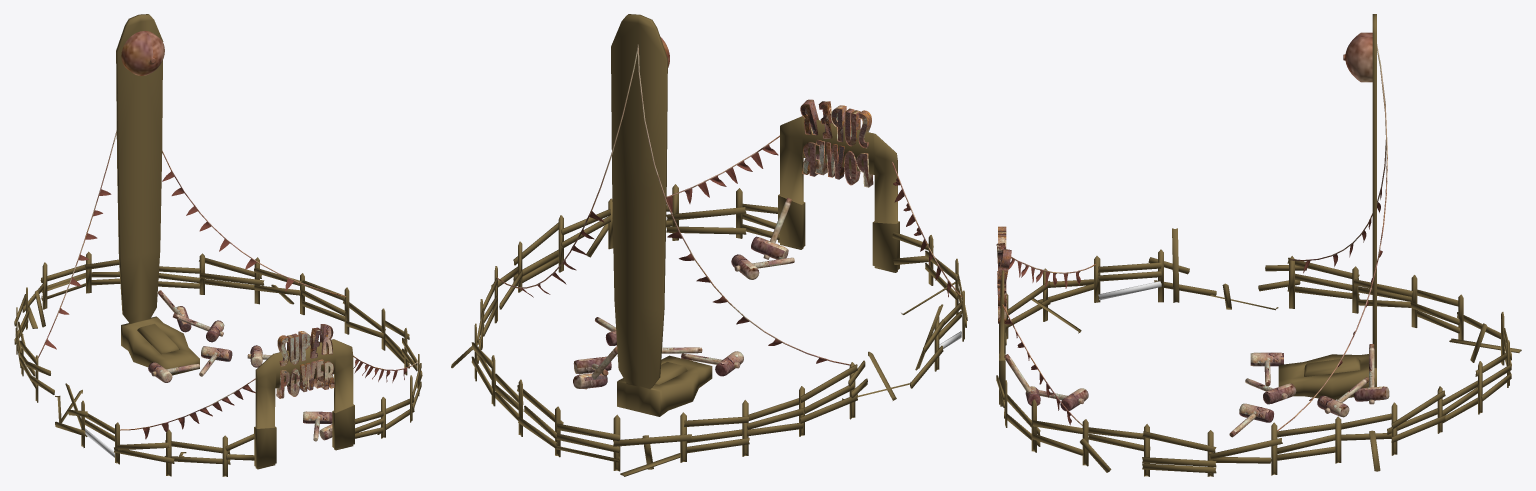
Rendered from hammer.fbx.
3 views of the same model, side by side, from view 1: azimuth 30°, elevation 25°; view 2: azimuth 150°, elevation 25°; view 3: azimuth 270°, elevation 25° (orthographic). The views are drawn at different scales.
Parts seen in each view (by area): view 1: hammerhop9; view 2: hammerhop9; view 3: hammerhop9.
Boxes of the visible parts, x1,y1,x2,y2 form: hammerhop9: (14,14,422,476); hammerhop9: (451,14,967,476); hammerhop9: (996,14,1521,476).
Size of the model in its own units: 22802 by 21450 by 27319.
